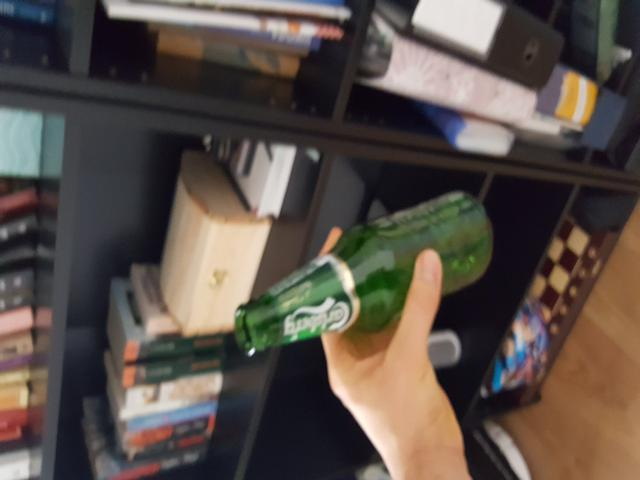beer: (235, 187, 493, 352)
